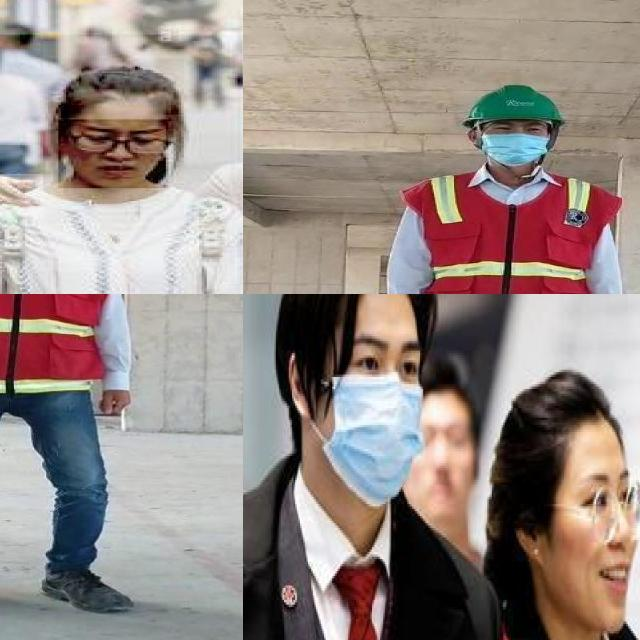No_Ear-Protection: (288, 346, 318, 424), (459, 116, 483, 148)
face_mask: (319, 331, 425, 509), (482, 129, 550, 169)
face_nomask: (545, 461, 639, 633), (407, 389, 476, 526), (58, 120, 168, 188)
glasses: (65, 125, 172, 160), (587, 475, 640, 544)
hand_noglove: (87, 382, 140, 420), (0, 174, 43, 217)
head_nohelmet: (530, 372, 624, 463), (40, 59, 186, 116), (293, 294, 413, 326)
person: (243, 294, 493, 640), (0, 34, 243, 294), (369, 83, 629, 294), (479, 367, 640, 640), (0, 294, 138, 612)
